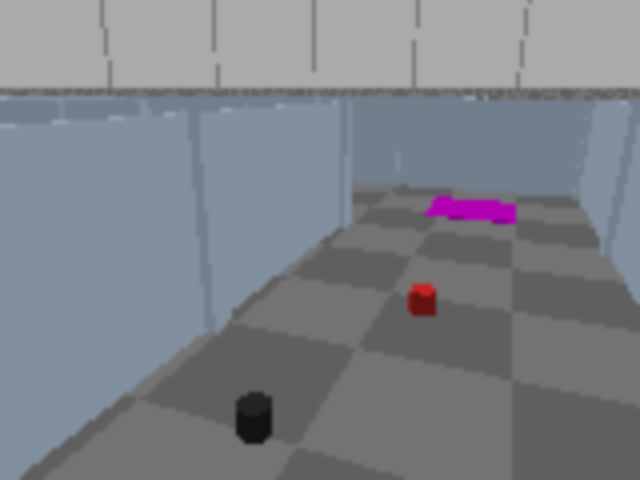goal_zone: (425, 197, 516, 224)
puck: (236, 393, 273, 444), (412, 285, 434, 315)
